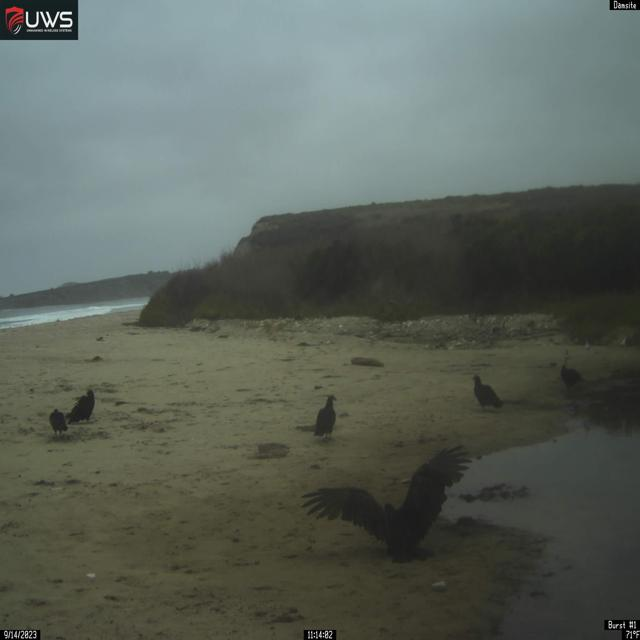bird: (300, 443, 473, 563)
